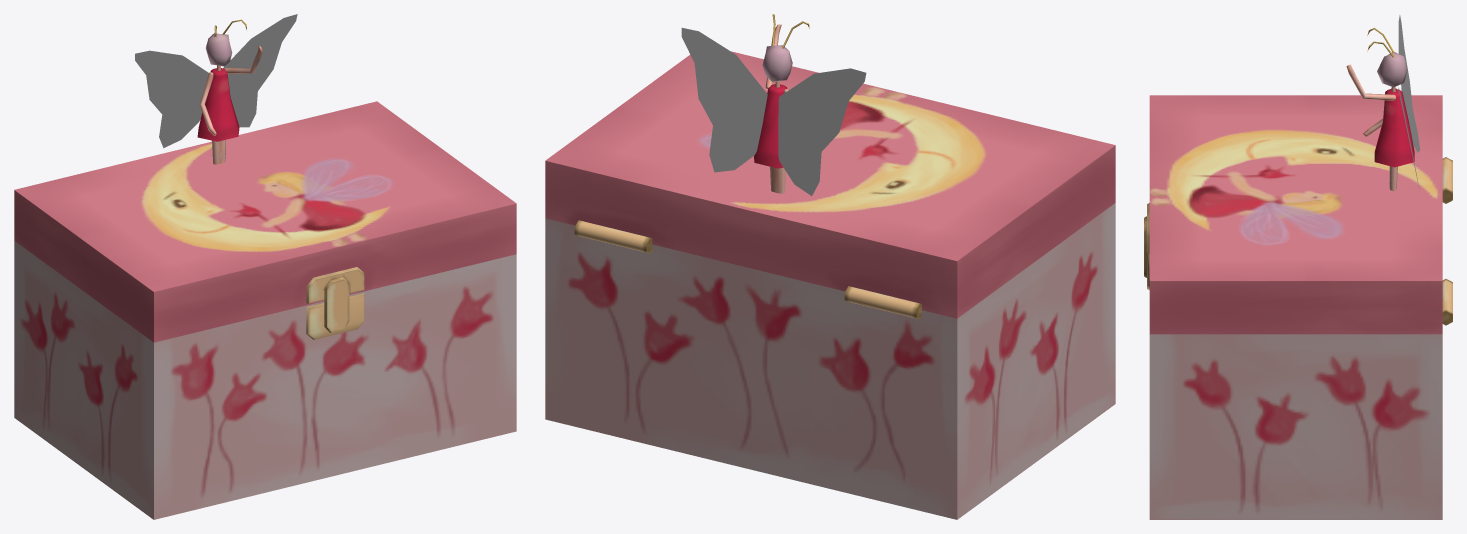
File: MusicBox.fbx
3 views of the same model, side by side, from view 1: azimuth 30°, elevation 25°; view 2: azimuth 150°, elevation 25°; view 3: azimuth 270°, elevation 25° (orthographic). The views are drawn at different scales.
Visible parts, largest first — view 1: MusicBox, Cap, Butterfly; view 2: MusicBox, Cap, Butterfly; view 3: Cap, MusicBox, Butterfly.
Boxes of the visible parts, bbox=[...] form: MusicBox: bbox=[14, 241, 516, 519]; Cap: bbox=[14, 101, 516, 342]; Butterfly: bbox=[135, 14, 297, 164]; MusicBox: bbox=[545, 203, 1115, 519]; Cap: bbox=[545, 51, 1115, 318]; Butterfly: bbox=[681, 14, 866, 195]; Cap: bbox=[1144, 95, 1442, 334]; MusicBox: bbox=[1147, 157, 1452, 519]; Butterfly: bbox=[1346, 15, 1420, 191].
Size of the model in its own units: 15 by 14.78 by 10.55.
